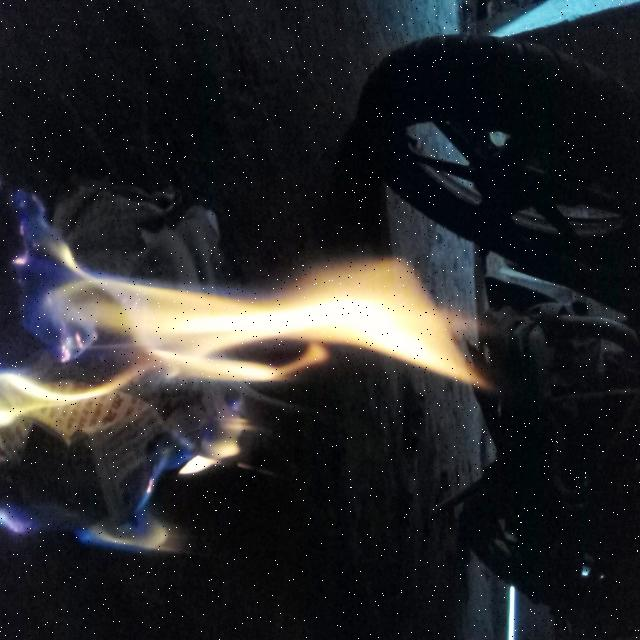fire: (12, 186, 492, 563)
